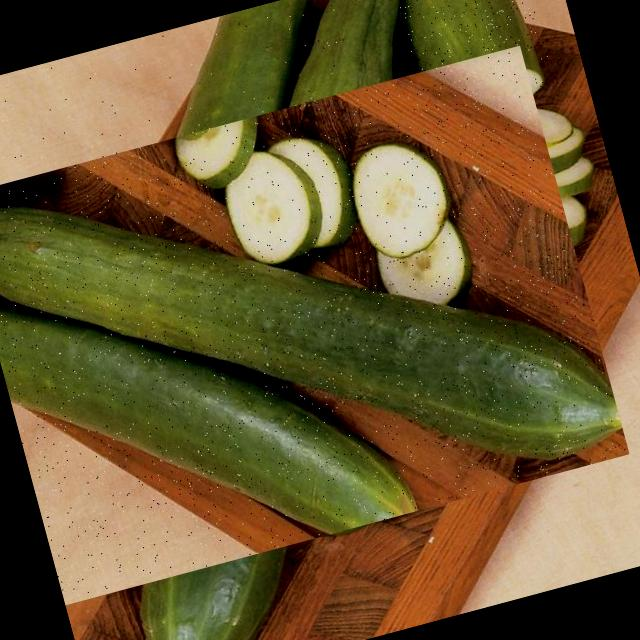Cucumber: (0, 45, 622, 571), (0, 200, 405, 603)
